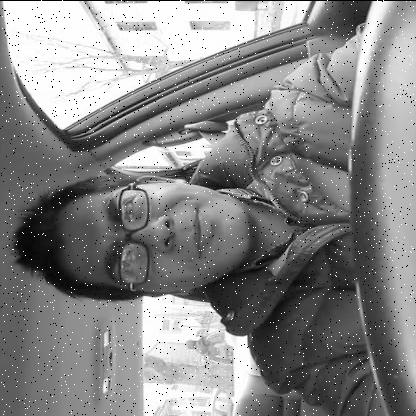seatbelt: (8, 123, 348, 311)
